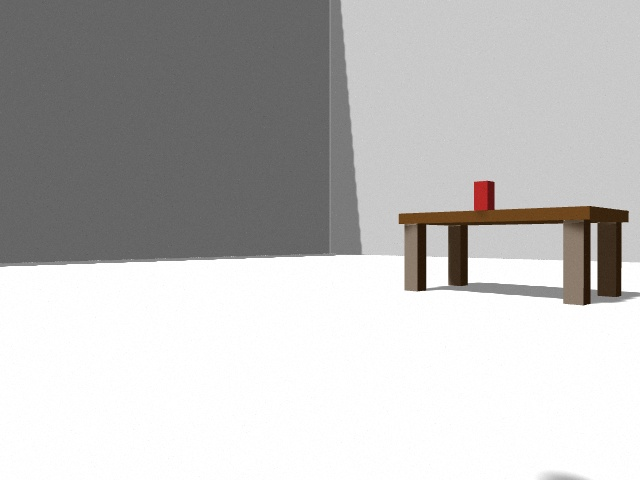red_cube: (474, 181, 488, 211)
